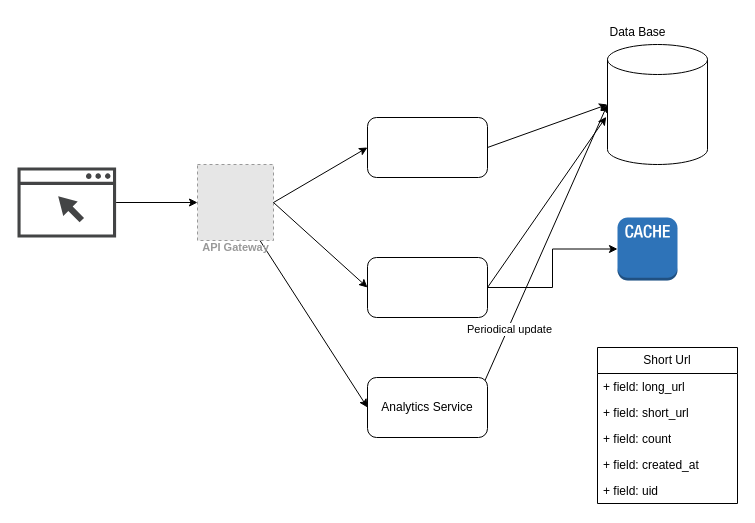
This 755x523 diagram has some shape labels left out. Grey dashed boxes stand in for pictures. Each missing label, with the centre of its shape:
"URL Redirection Service" goes at pixel 427 287.
"URL Shortener Service" goes at pixel 427 147.
